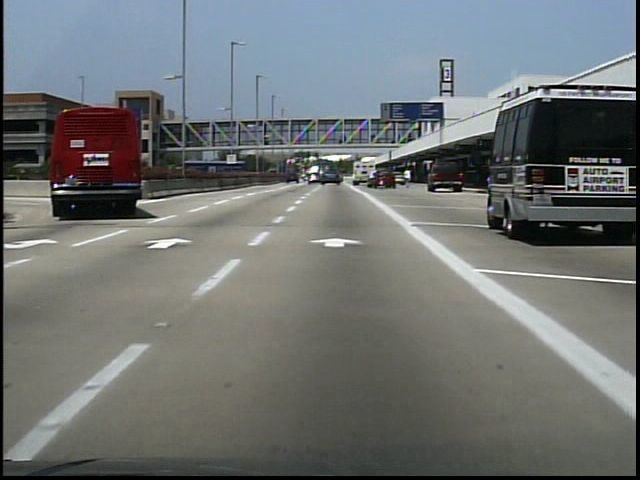person: (400, 169, 414, 191)
